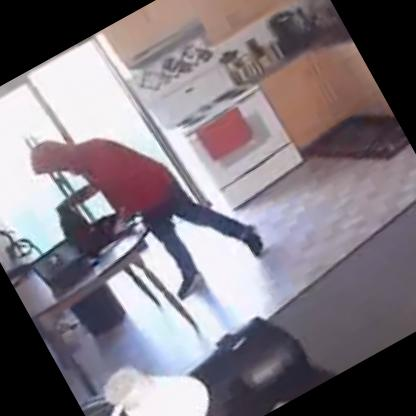Human Body: (7, 62, 274, 342)
